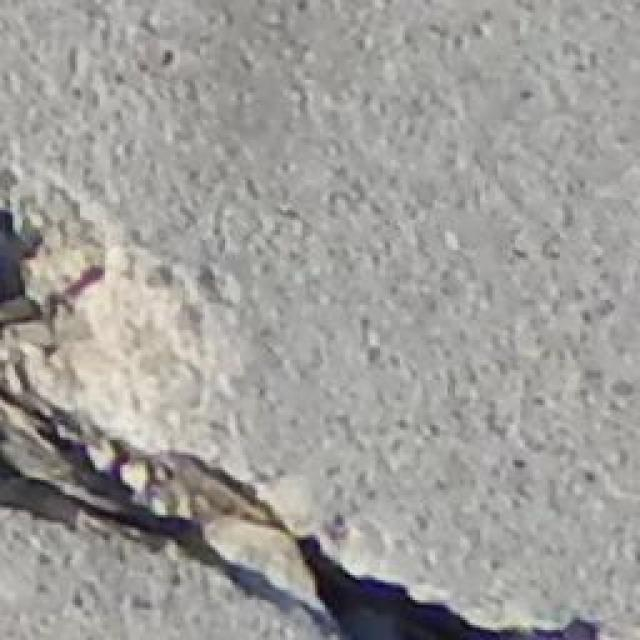concrete-crack: (0, 193, 620, 640)
